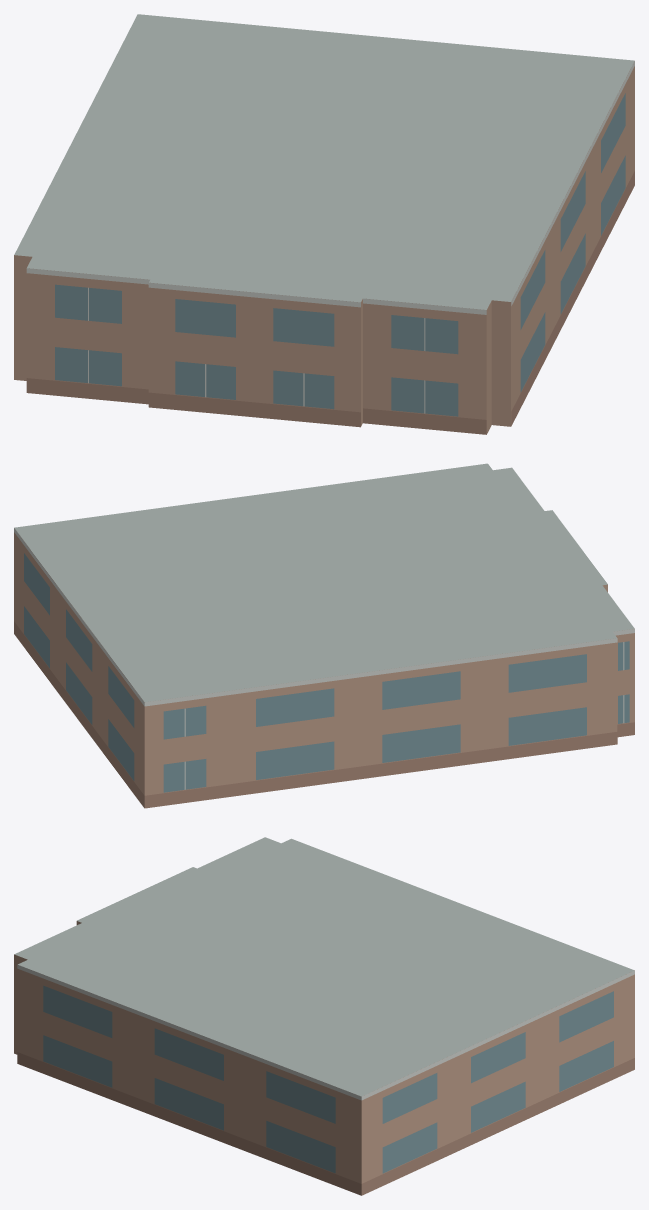
The model's file is survey-upis-32882389.glb.
3 views of the same model, one above another, from view 1: azimuth 30°, elevation 25°; view 2: azimuth 150°, elevation 25°; view 3: azimuth 270°, elevation 25° (orthographic). The views are drawn at different scales.
Visible parts, largest first — view 1: survey-upis-32882389.tmp; view 2: survey-upis-32882389.tmp; view 3: survey-upis-32882389.tmp.
Boxes of the visible parts, box(x1,y1,x2,y2) form: survey-upis-32882389.tmp: box(14, 14, 634, 434); survey-upis-32882389.tmp: box(14, 463, 634, 808); survey-upis-32882389.tmp: box(14, 837, 634, 1195).
Bounding box in the file's own units: 34.22 × 6.1 × 34.61.
